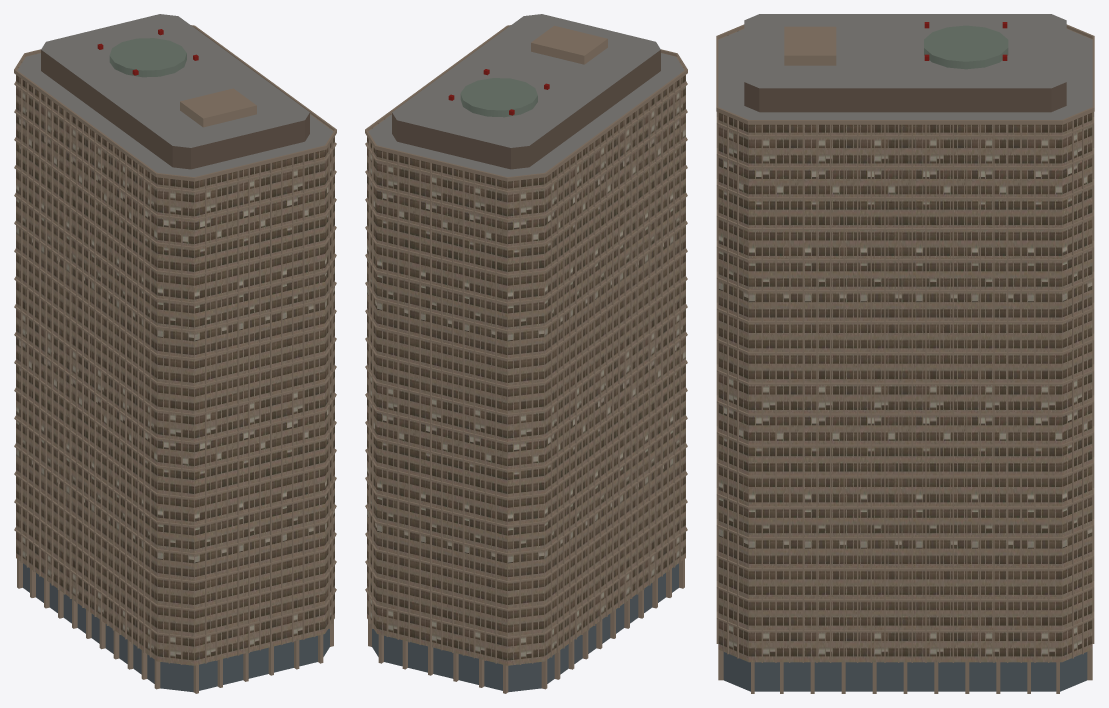
The model's file is ark_mori_building.glb.
The picture shows the model from 3 angles, left to right: view 1: azimuth 30°, elevation 25°; view 2: azimuth 150°, elevation 25°; view 3: azimuth 270°, elevation 25°; orthographic projection. The views are drawn at different scales.
Visible parts, largest first — view 1: ark_mori_building; view 2: ark_mori_building; view 3: ark_mori_building.
Part boxes in pixels (left/top/right/bottom): ark_mori_building: left=14, top=14, right=336, bottom=693; ark_mori_building: left=365, top=14, right=687, bottom=693; ark_mori_building: left=716, top=14, right=1094, bottom=693.
Size of the model in its own units: 52.99 by 153 by 86.5.
Materials: 2 (2 with a texture image).
